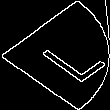L_NW: (14, 26, 96, 84)
